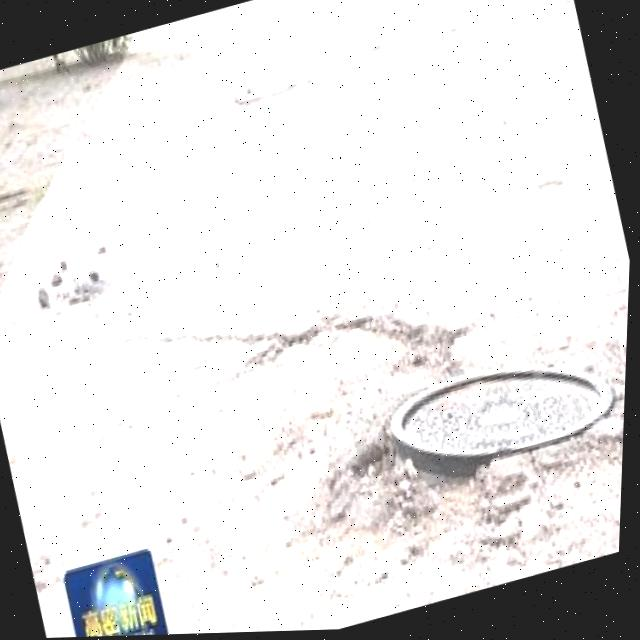manhole: (331, 301, 631, 542)
